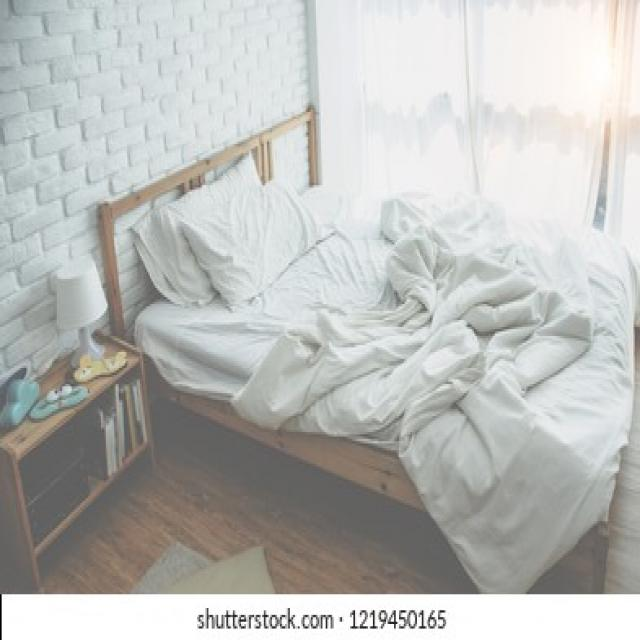bed: (130, 149, 640, 594)
